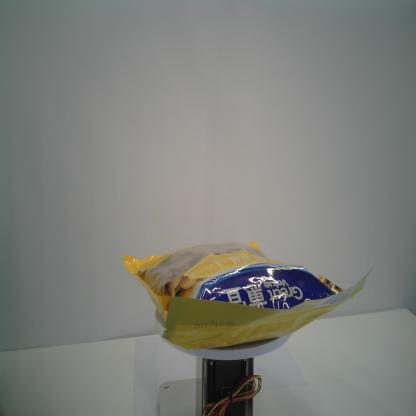Dried Food: (122, 239, 374, 351)
